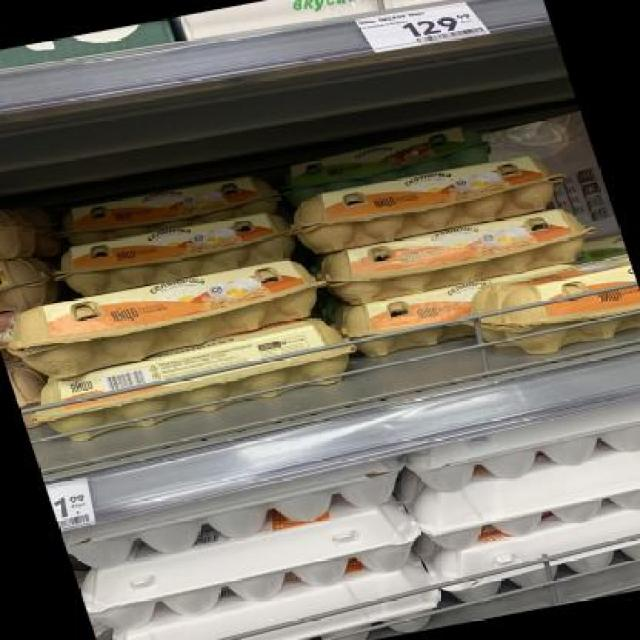Egg: (0, 251, 331, 383), (283, 147, 577, 258), (309, 202, 606, 310), (46, 205, 306, 303), (46, 166, 286, 249), (470, 259, 639, 364), (0, 250, 64, 318)
